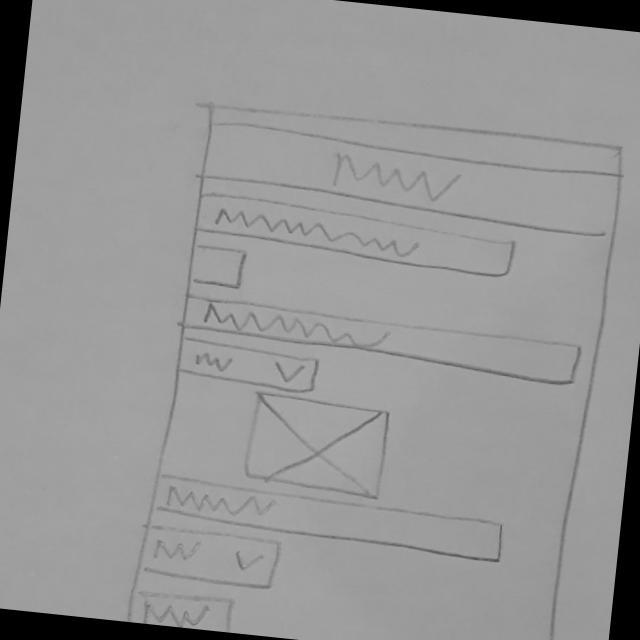container: (119, 94, 632, 640), (178, 238, 248, 291)
image: (234, 387, 398, 503)
input: (193, 115, 630, 236), (176, 290, 586, 385), (143, 469, 513, 564), (183, 189, 522, 280), (123, 584, 239, 633)
select: (135, 520, 285, 595), (164, 332, 326, 398)
